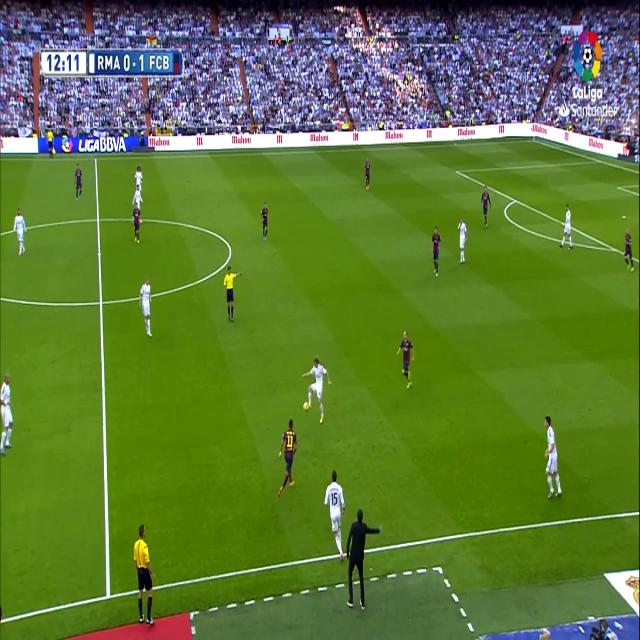corner: (530, 136, 537, 144)
halfcircle_bottom: (96, 291, 106, 313)
midline_bottom_intersection: (101, 580, 115, 604)
midline_top_intersection: (93, 152, 99, 164)
top_arc_area_intersection: (512, 192, 518, 206)
